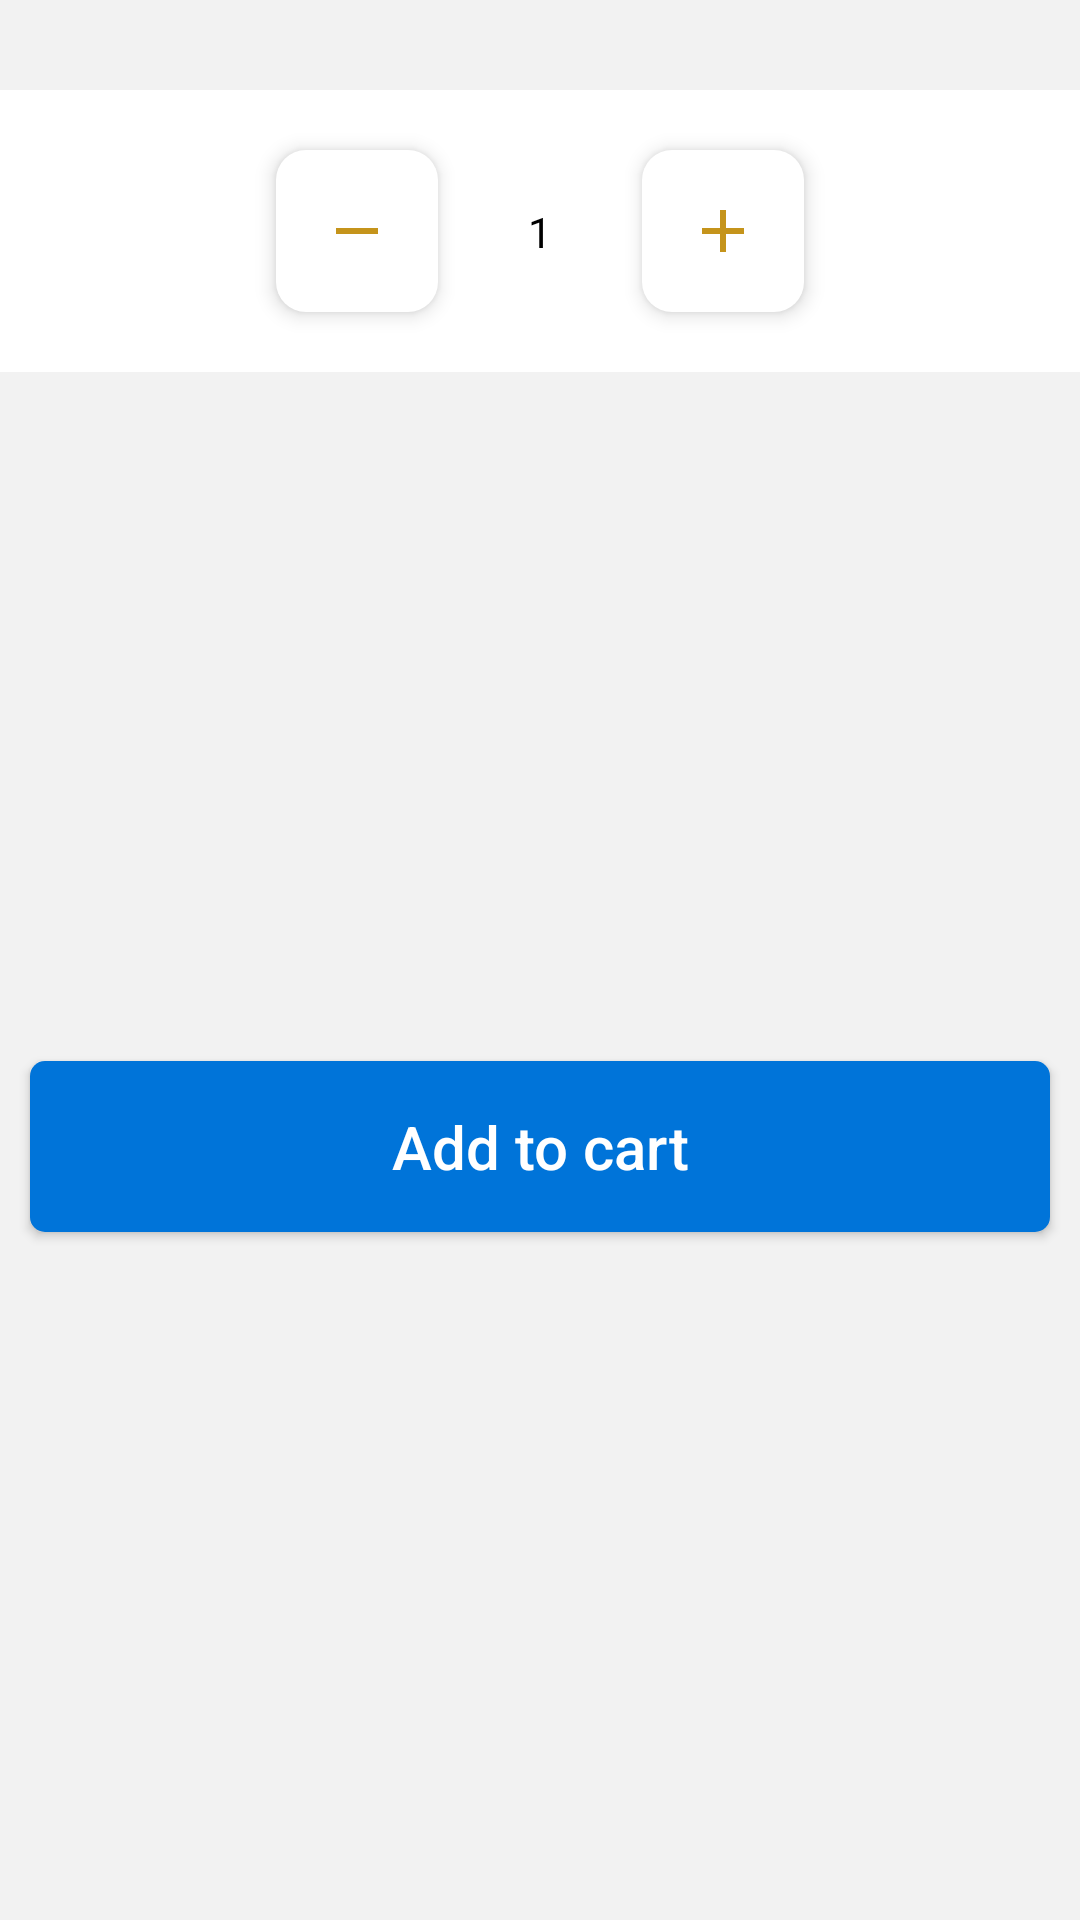

Icons on this 1080w x 1920h Android screen, each with its box as (x1, y1, x2, y2):
add: (647, 157, 804, 312)
remove: (276, 157, 433, 312)
